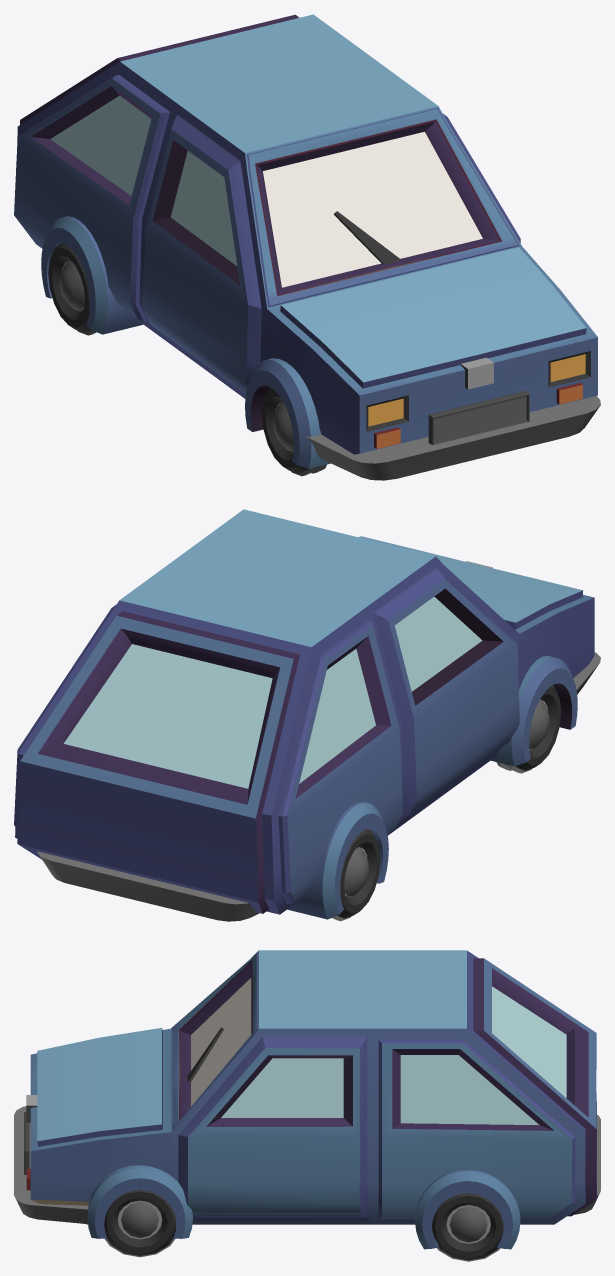
Rendered from FIat126p.fbx.
3 views of the same model, one above another, from view 1: azimuth 30°, elevation 25°; view 2: azimuth 150°, elevation 25°; view 3: azimuth 270°, elevation 25° (orthographic). The views are drawn at different scales.
Visible parts, largest first — view 1: FIat126p; view 2: FIat126p; view 3: FIat126p.
Boxes of the visible parts, x1,y1,x2,y2 form: FIat126p: (14, 14, 600, 480); FIat126p: (14, 509, 600, 921); FIat126p: (14, 950, 600, 1261).
Bounding box in the file's own units: 1190 × 990 × 2423.
